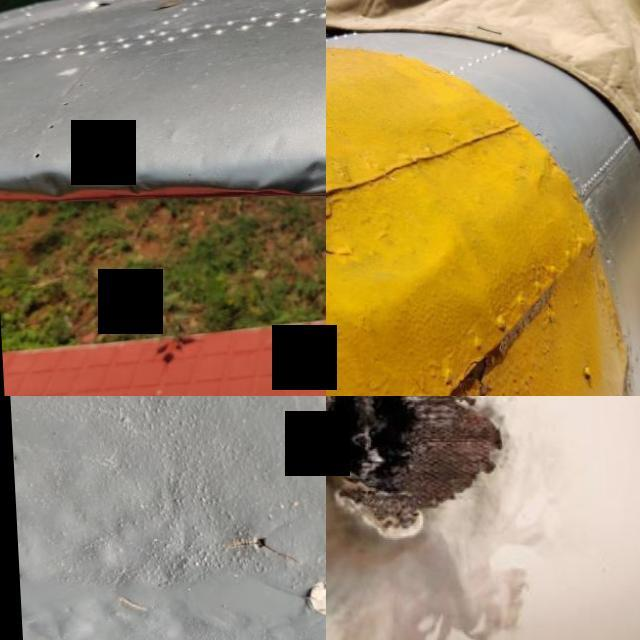Crack: (326, 396, 495, 530), (214, 524, 306, 572)
Dent: (326, 158, 466, 337), (241, 104, 326, 218), (18, 154, 84, 217)
